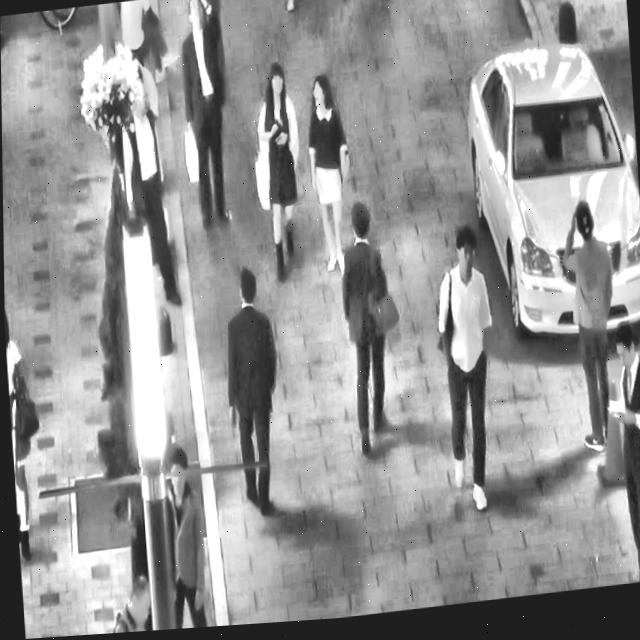light_vehicle: (456, 23, 640, 365)
